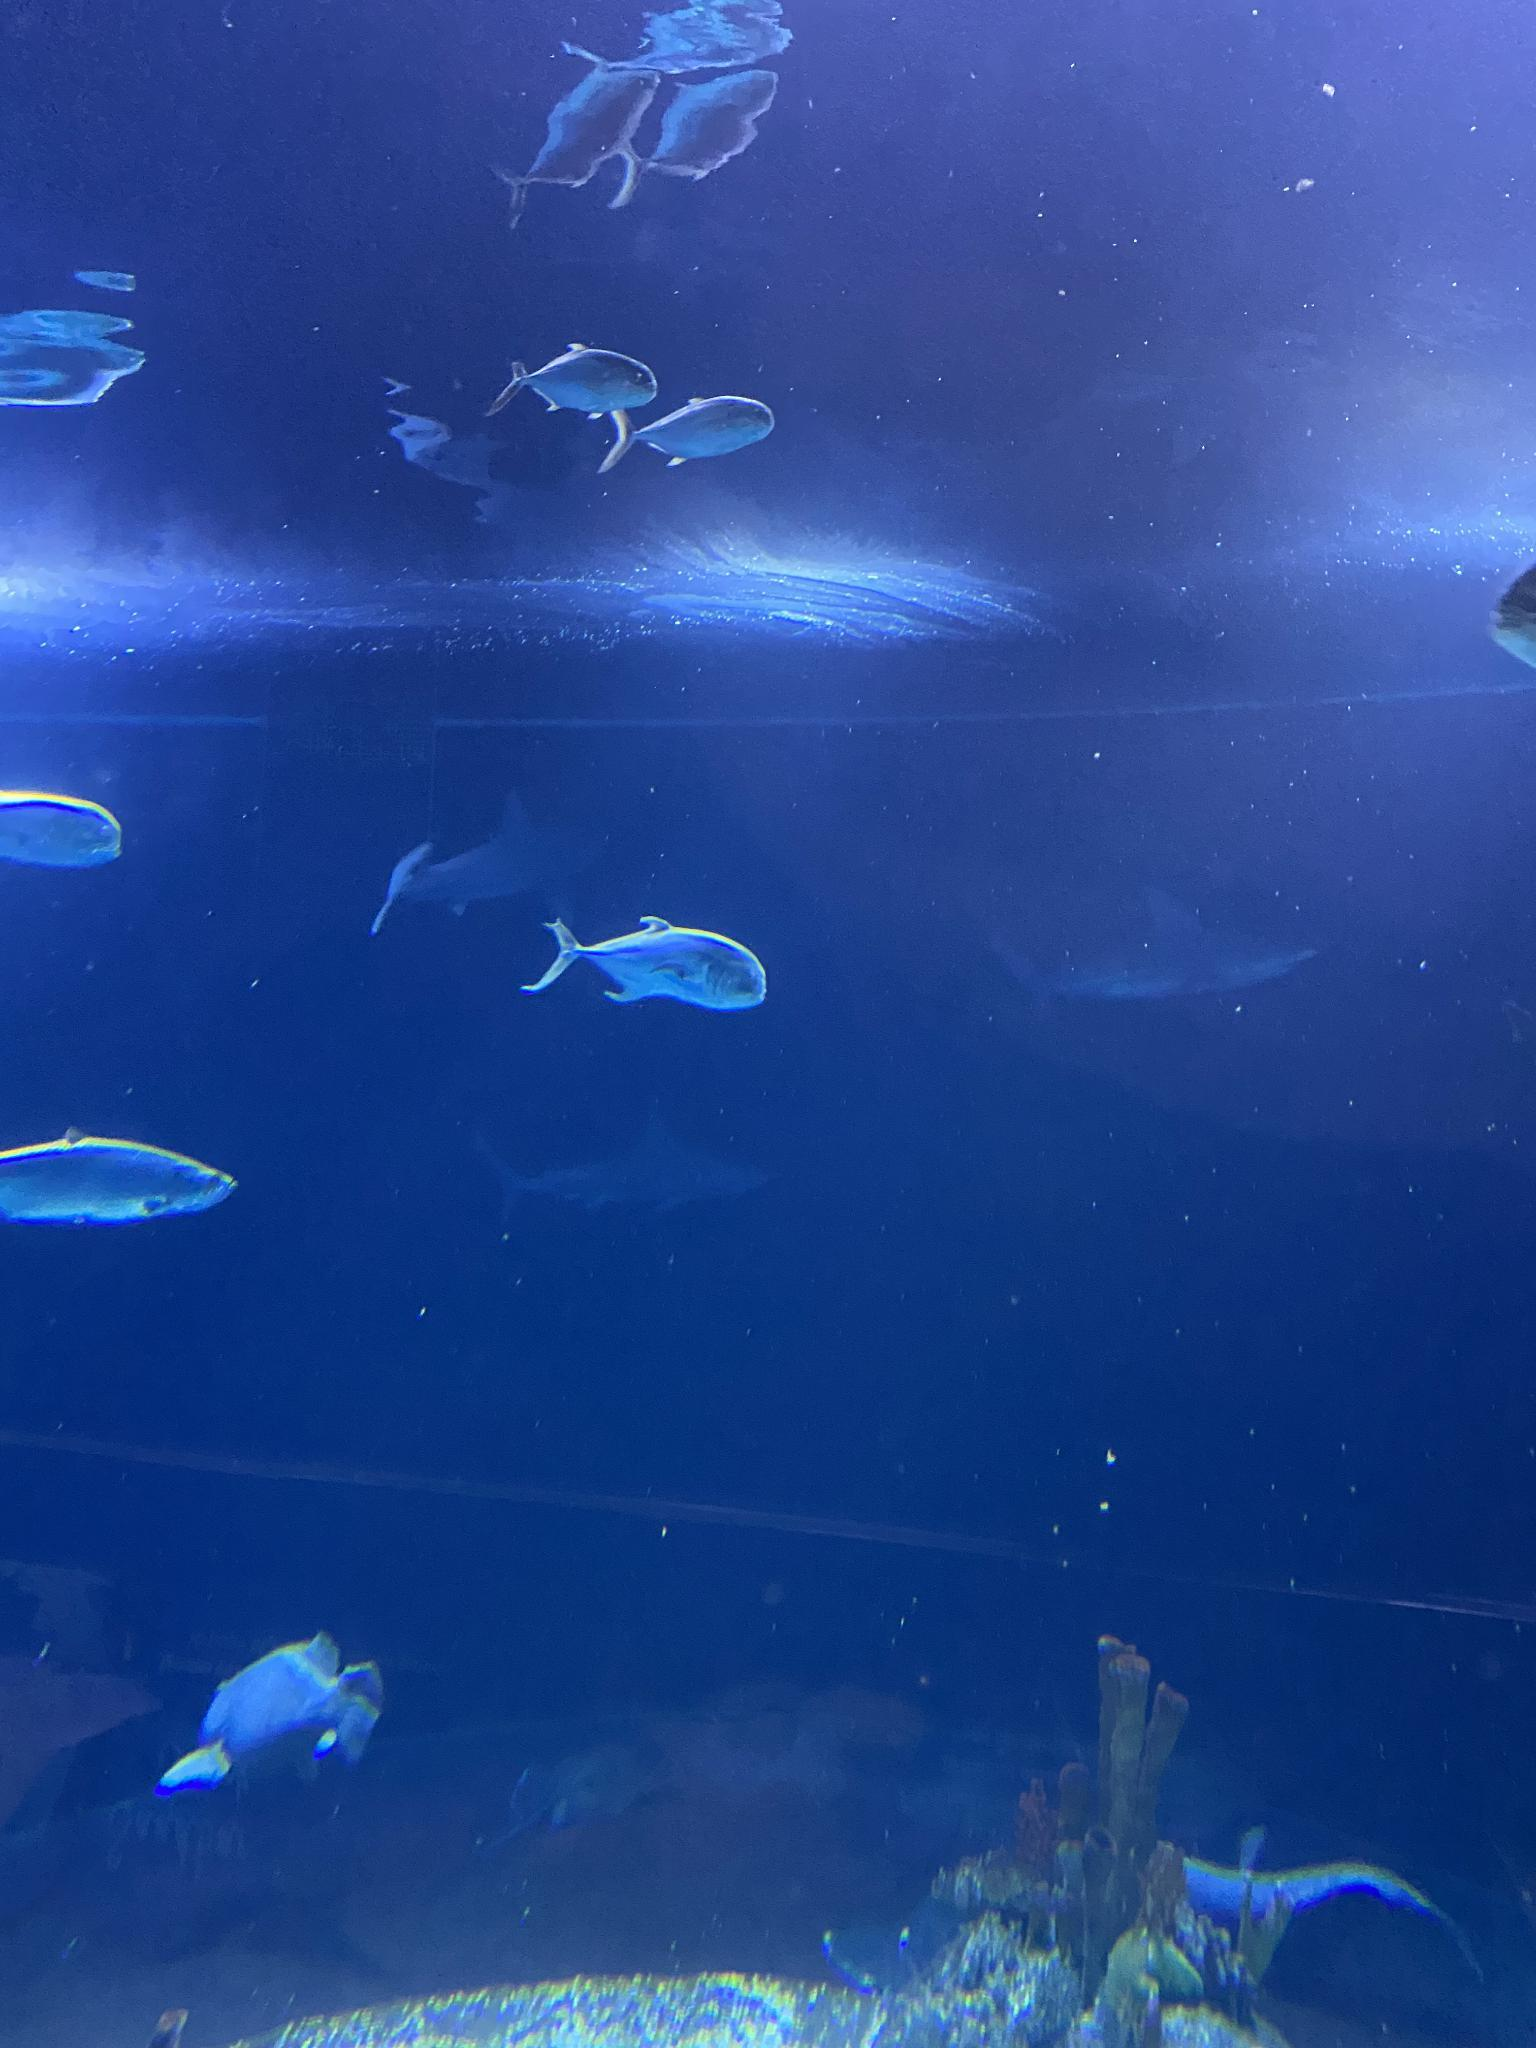fish: (160, 1625, 389, 1822), (534, 910, 773, 1027), (0, 1130, 240, 1242), (584, 79, 795, 198), (495, 69, 657, 206), (3, 284, 142, 418), (607, 397, 783, 484), (600, 5, 808, 76), (497, 350, 655, 423), (0, 790, 134, 876), (1476, 547, 1536, 693)
shark: (991, 884, 1346, 1005), (368, 776, 621, 926), (470, 1106, 771, 1227)
